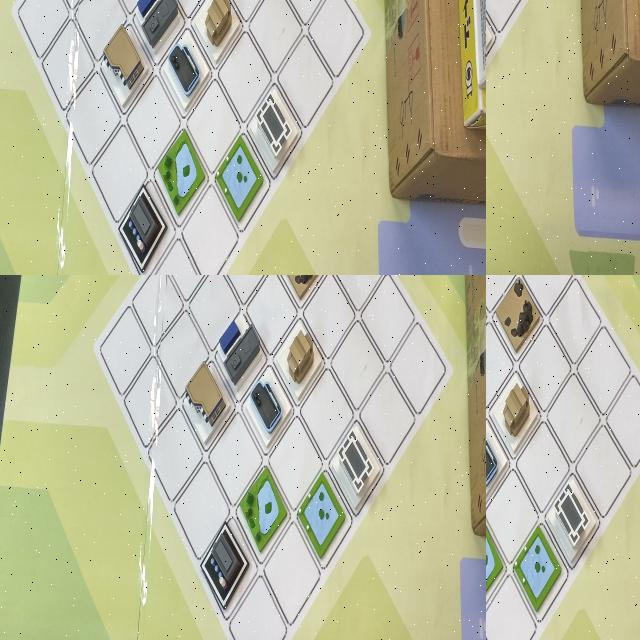bus_stop: (225, 80, 287, 194), (75, 576, 125, 640), (486, 357, 511, 445), (486, 0, 515, 48)
factory: (335, 581, 389, 640), (156, 0, 211, 49), (486, 202, 517, 275), (486, 568, 514, 640)
fish_pool: (91, 106, 152, 199), (511, 523, 562, 612), (405, 571, 456, 640), (486, 0, 514, 48)
forest: (128, 572, 176, 640), (486, 110, 517, 214), (215, 0, 270, 55), (486, 275, 514, 321)
gogo_shop: (219, 0, 280, 79), (34, 505, 76, 580), (486, 412, 510, 508), (486, 0, 513, 46)
research_build: (161, 100, 216, 197), (410, 488, 463, 584), (547, 469, 600, 564), (486, 15, 514, 126)
restaurant: (150, 0, 209, 99), (79, 501, 127, 574), (486, 405, 513, 501), (486, 0, 513, 46)
silicate_rock: (494, 275, 544, 356), (21, 584, 68, 640), (181, 0, 235, 46), (486, 198, 515, 275)
volunteer_center: (487, 368, 538, 454), (291, 0, 355, 55), (283, 569, 331, 640), (486, 31, 513, 131)
wet_land: (344, 484, 395, 574), (289, 0, 349, 71), (486, 509, 514, 604), (486, 0, 517, 38)
